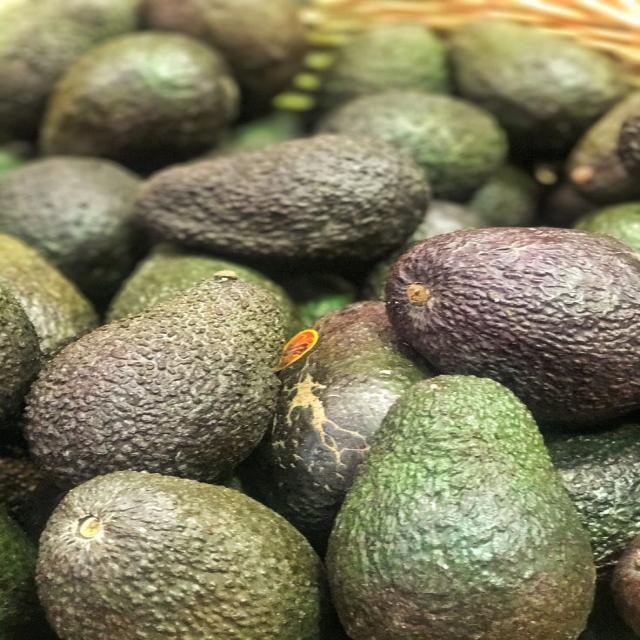avocado: (327, 376, 595, 639), (25, 276, 286, 486), (387, 228, 639, 423), (37, 472, 331, 639), (256, 302, 433, 550), (138, 136, 429, 262), (40, 32, 238, 171), (452, 21, 627, 155), (0, 157, 139, 307), (319, 91, 506, 200), (0, 0, 139, 138), (143, 0, 306, 114), (107, 244, 297, 325), (547, 422, 639, 576), (363, 201, 485, 300), (0, 234, 98, 354), (318, 23, 450, 108), (567, 91, 639, 204), (0, 506, 52, 639), (0, 284, 41, 430), (467, 166, 539, 227), (208, 111, 305, 156), (280, 272, 357, 326), (579, 581, 638, 639), (574, 203, 639, 252), (0, 457, 46, 515), (540, 181, 597, 227), (613, 536, 639, 636), (617, 113, 639, 174), (0, 147, 23, 178)
